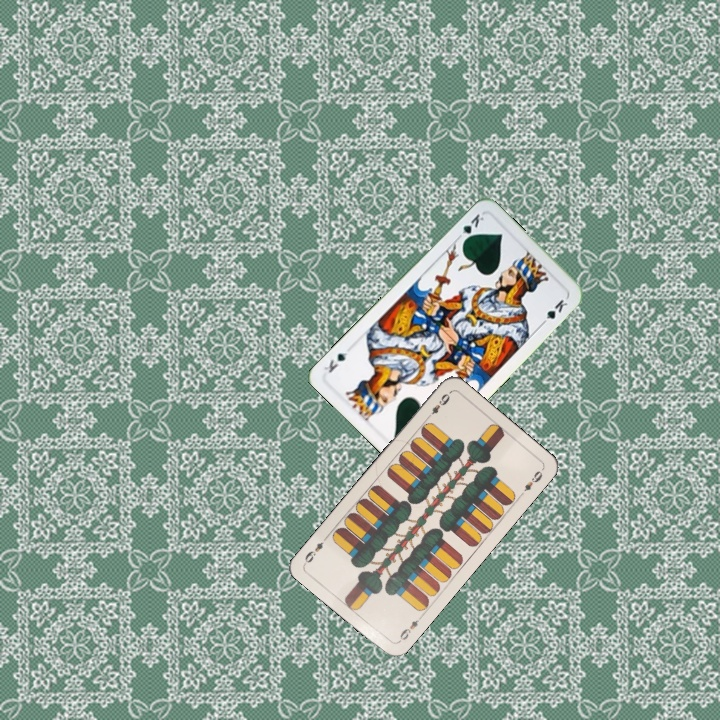E9: (394, 611, 425, 645), (422, 389, 452, 422)
GK: (453, 209, 487, 245)
